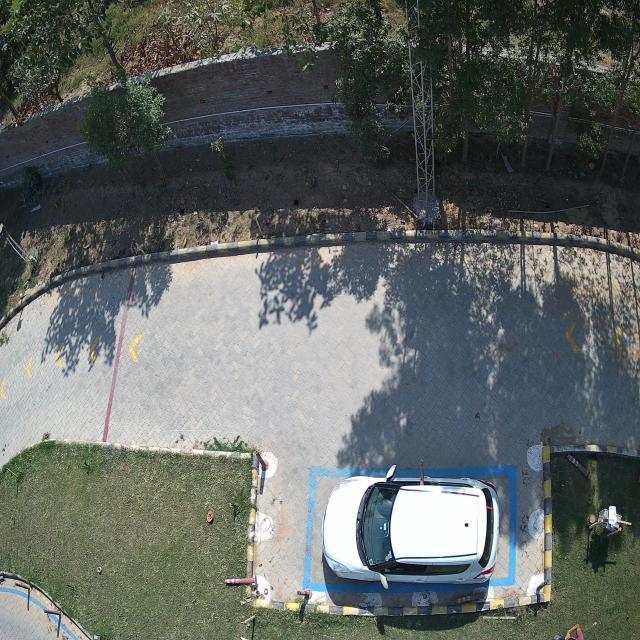car: (322, 475, 500, 584)
